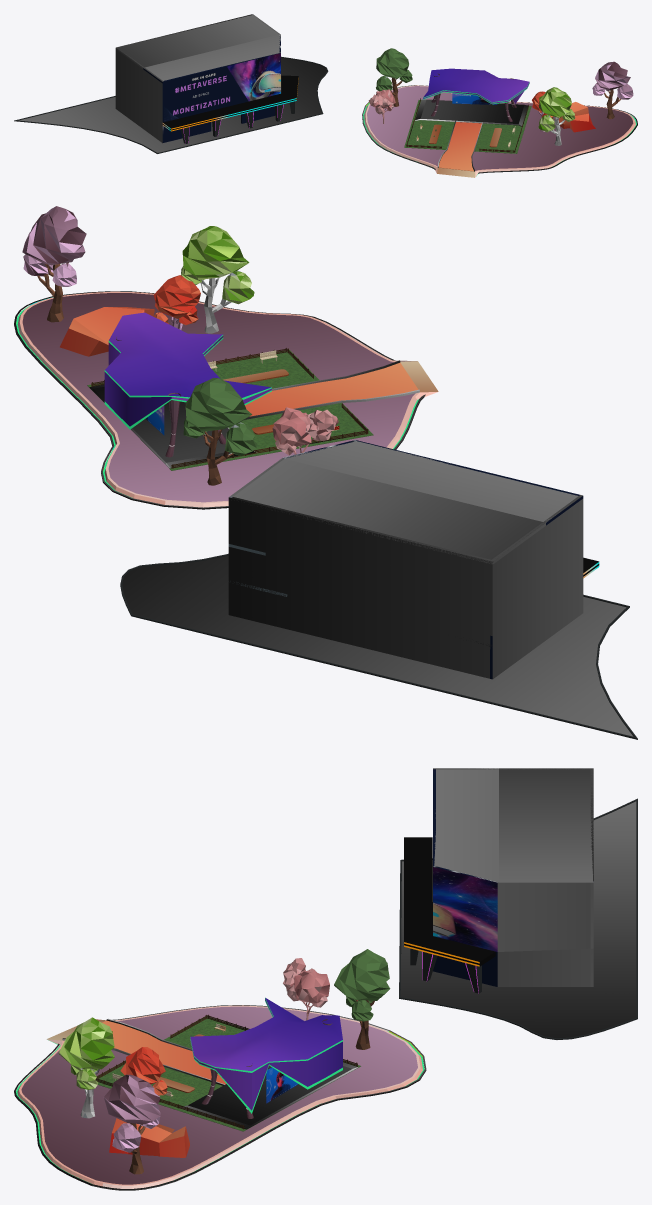
File: Open_Event_Area.glb
3 renders of one model, top to bottom at view 1: azimuth 30°, elevation 25°; view 2: azimuth 150°, elevation 25°; view 3: azimuth 270°, elevation 25°, orthographic. The views are drawn at different scales.
Visible parts, largest first — view 1: polySurface874; view 2: polySurface874; view 3: polySurface874.
Boxes of the visible parts, x1,y1,x2,y2 form: polySurface874: [14, 14, 637, 177]; polySurface874: [14, 206, 637, 739]; polySurface874: [14, 768, 637, 1190].
Bounding box in the file's own units: 161 × 20.36 × 108.
Materials: 5 (5 with a texture image).
